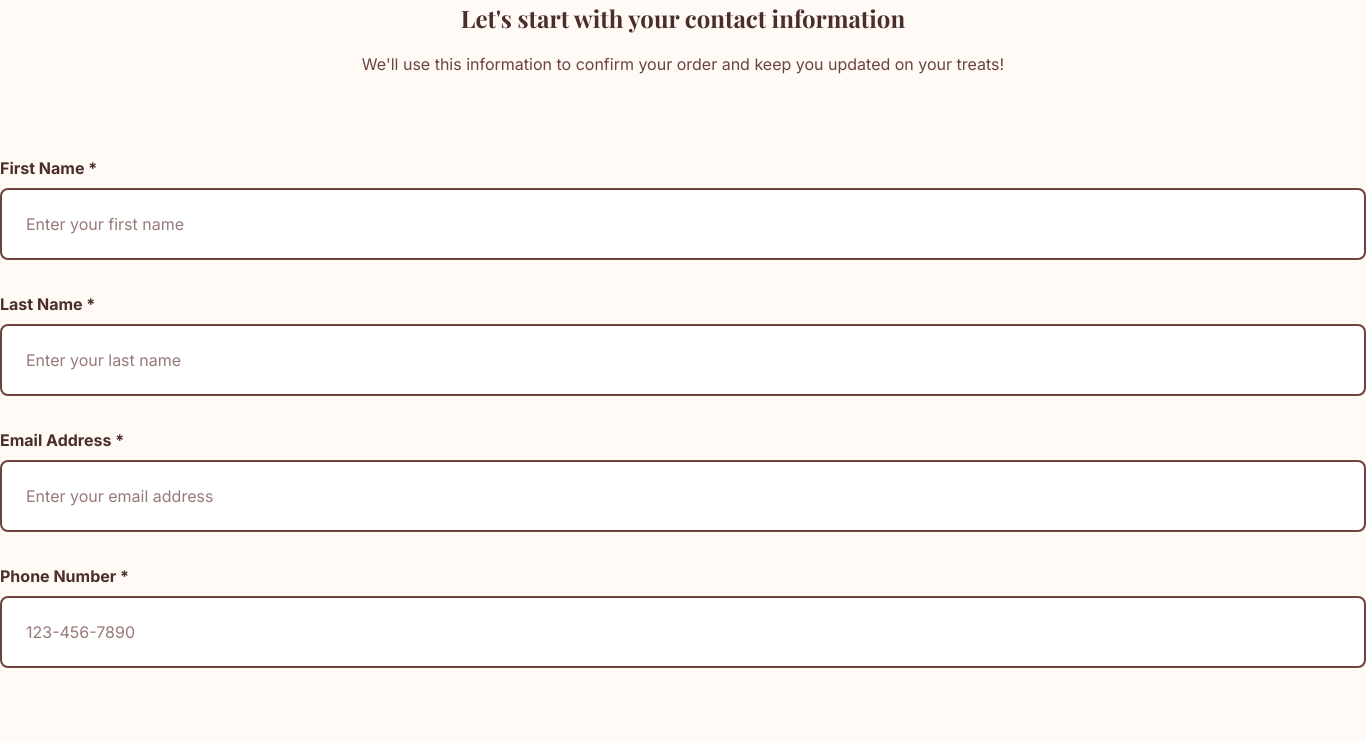
Test case: LeadQuestions › only shows errors for fields that have been touched
The image size is (1366, 742).
# Fill in email but don't blur (not touched)
Type "invalid-email" into the field labelled "Email Address *" at (683, 496), box [0, 460, 1365, 532]
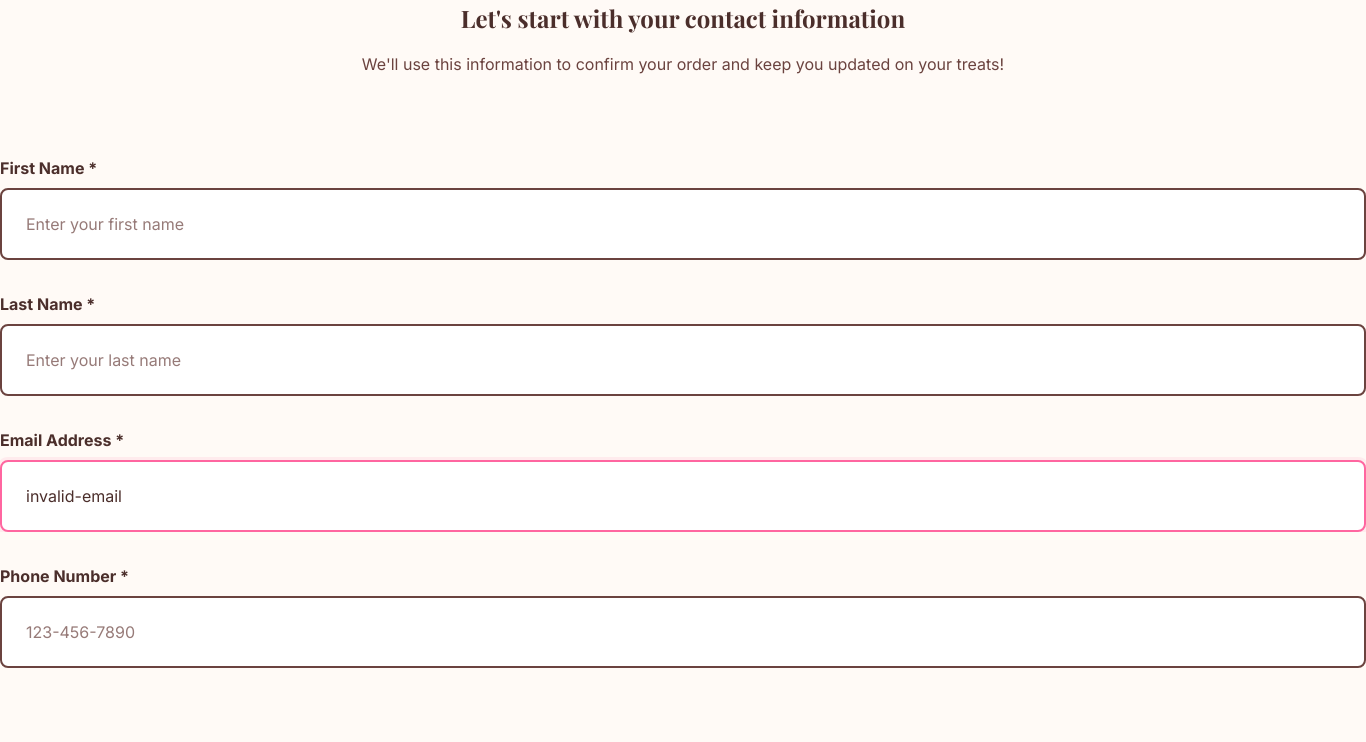
Expected: the text "Please enter a valid email address" is not shown
# Now blur to mark as touched
Press Tab
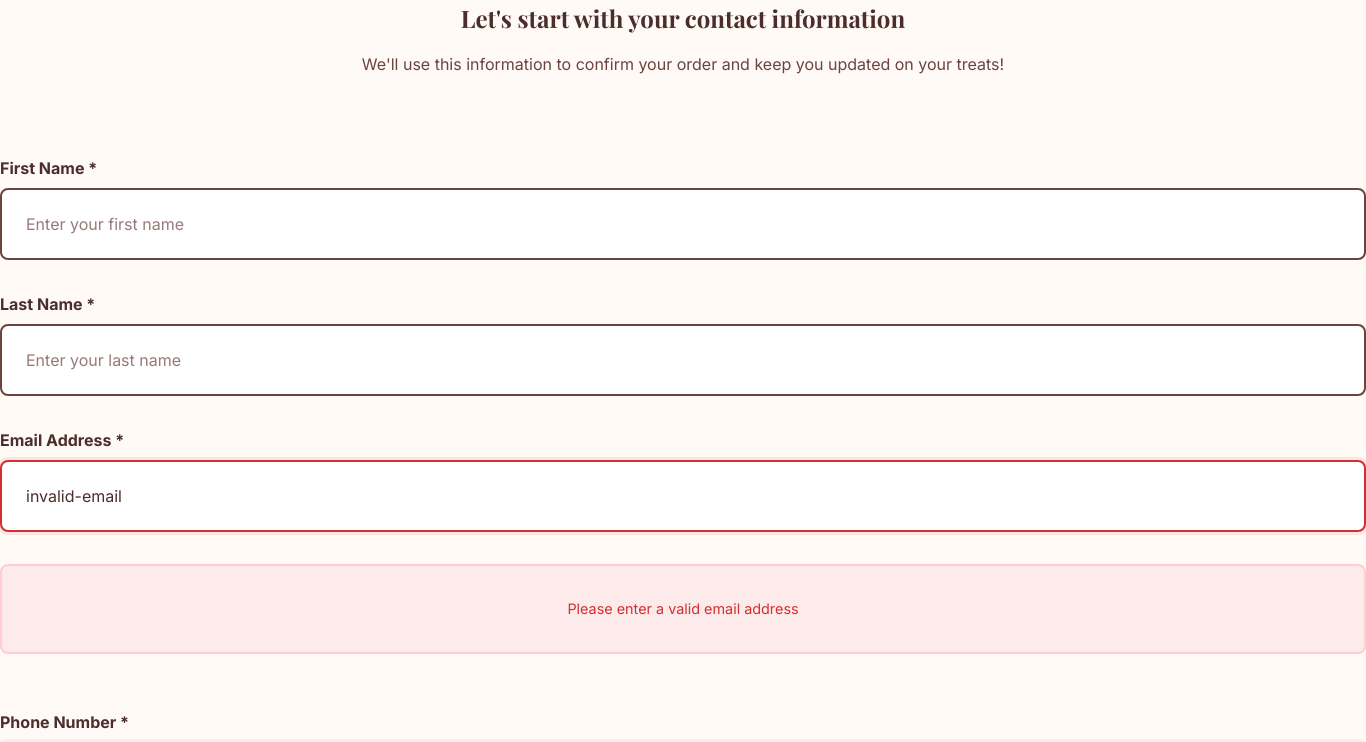
Expected: the text "Please enter a valid email address" is shown, [0, 564, 1365, 654]
